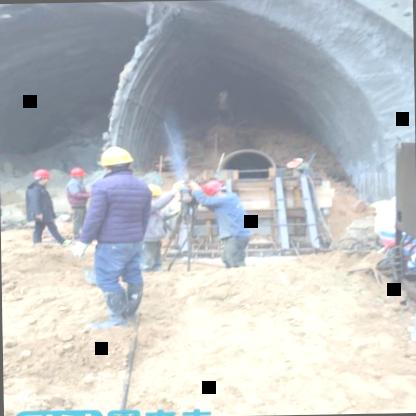helmet: (98, 145, 134, 176), (203, 176, 231, 202), (138, 181, 162, 211), (32, 168, 54, 191), (68, 165, 88, 187)
